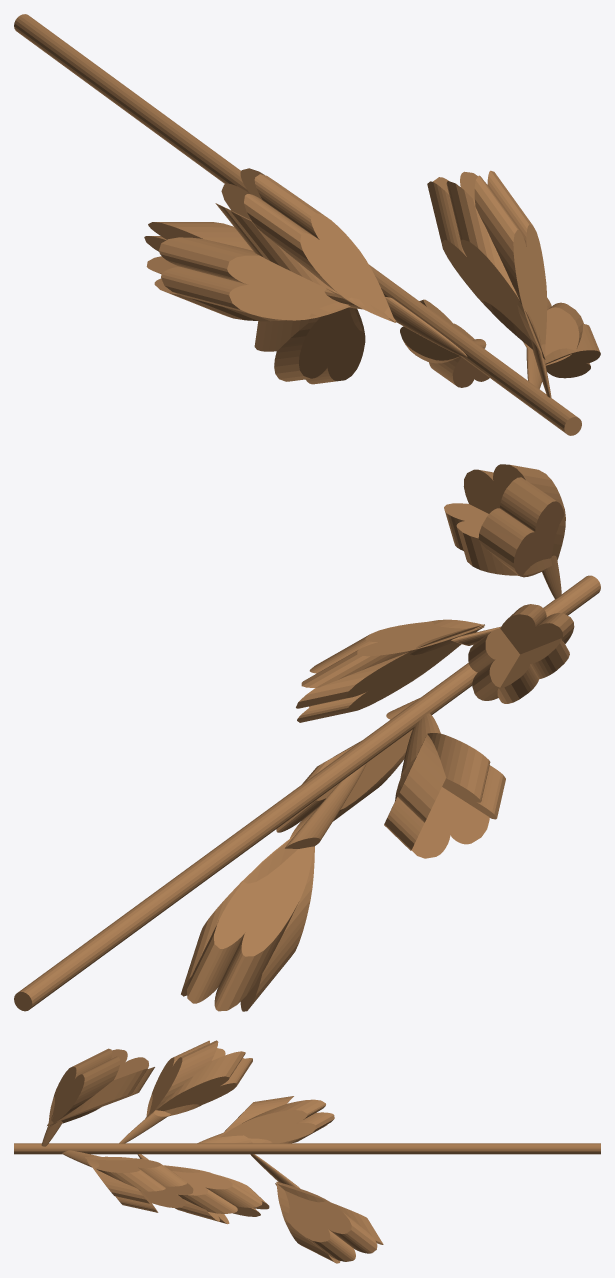
The model's file is tinker.obj.
3 views of the same model, one above another, from view 1: azimuth 30°, elevation 25°; view 2: azimuth 150°, elevation 25°; view 3: azimuth 270°, elevation 25° (orthographic). The views are drawn at different scales.
Visible parts, largest first — view 1: obj_0; view 2: obj_0; view 3: obj_0.
Part boxes in pixels (x1,y1,x2,y2): obj_0: (14,14,600,435); obj_0: (14,464,600,1011); obj_0: (14,1040,600,1263).
Bounding box in the file's own units: 34.15 × 40.84 × 108.
